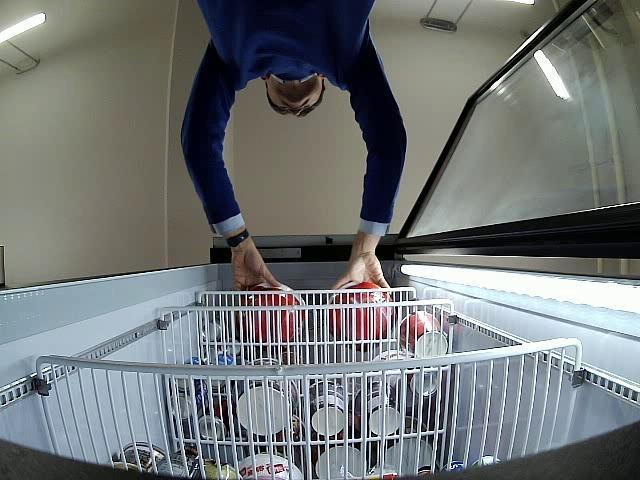10_wangTtukkeong: (330, 283, 395, 350), (237, 283, 307, 344)
